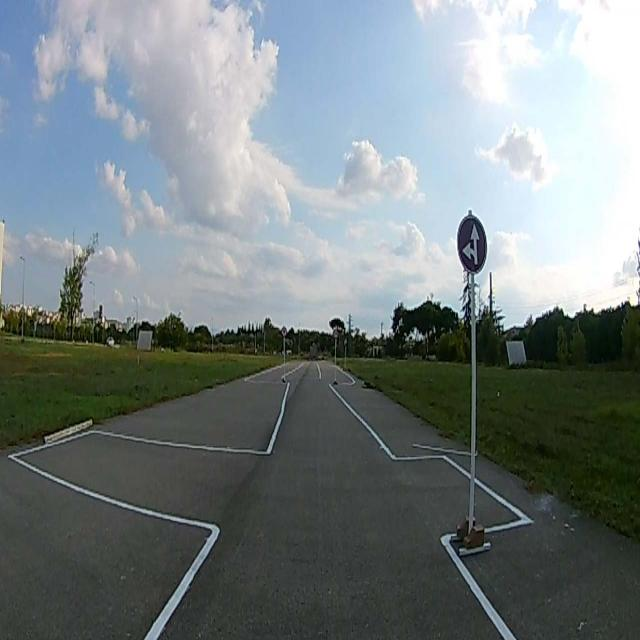ilerisol: (458, 217, 488, 271)
